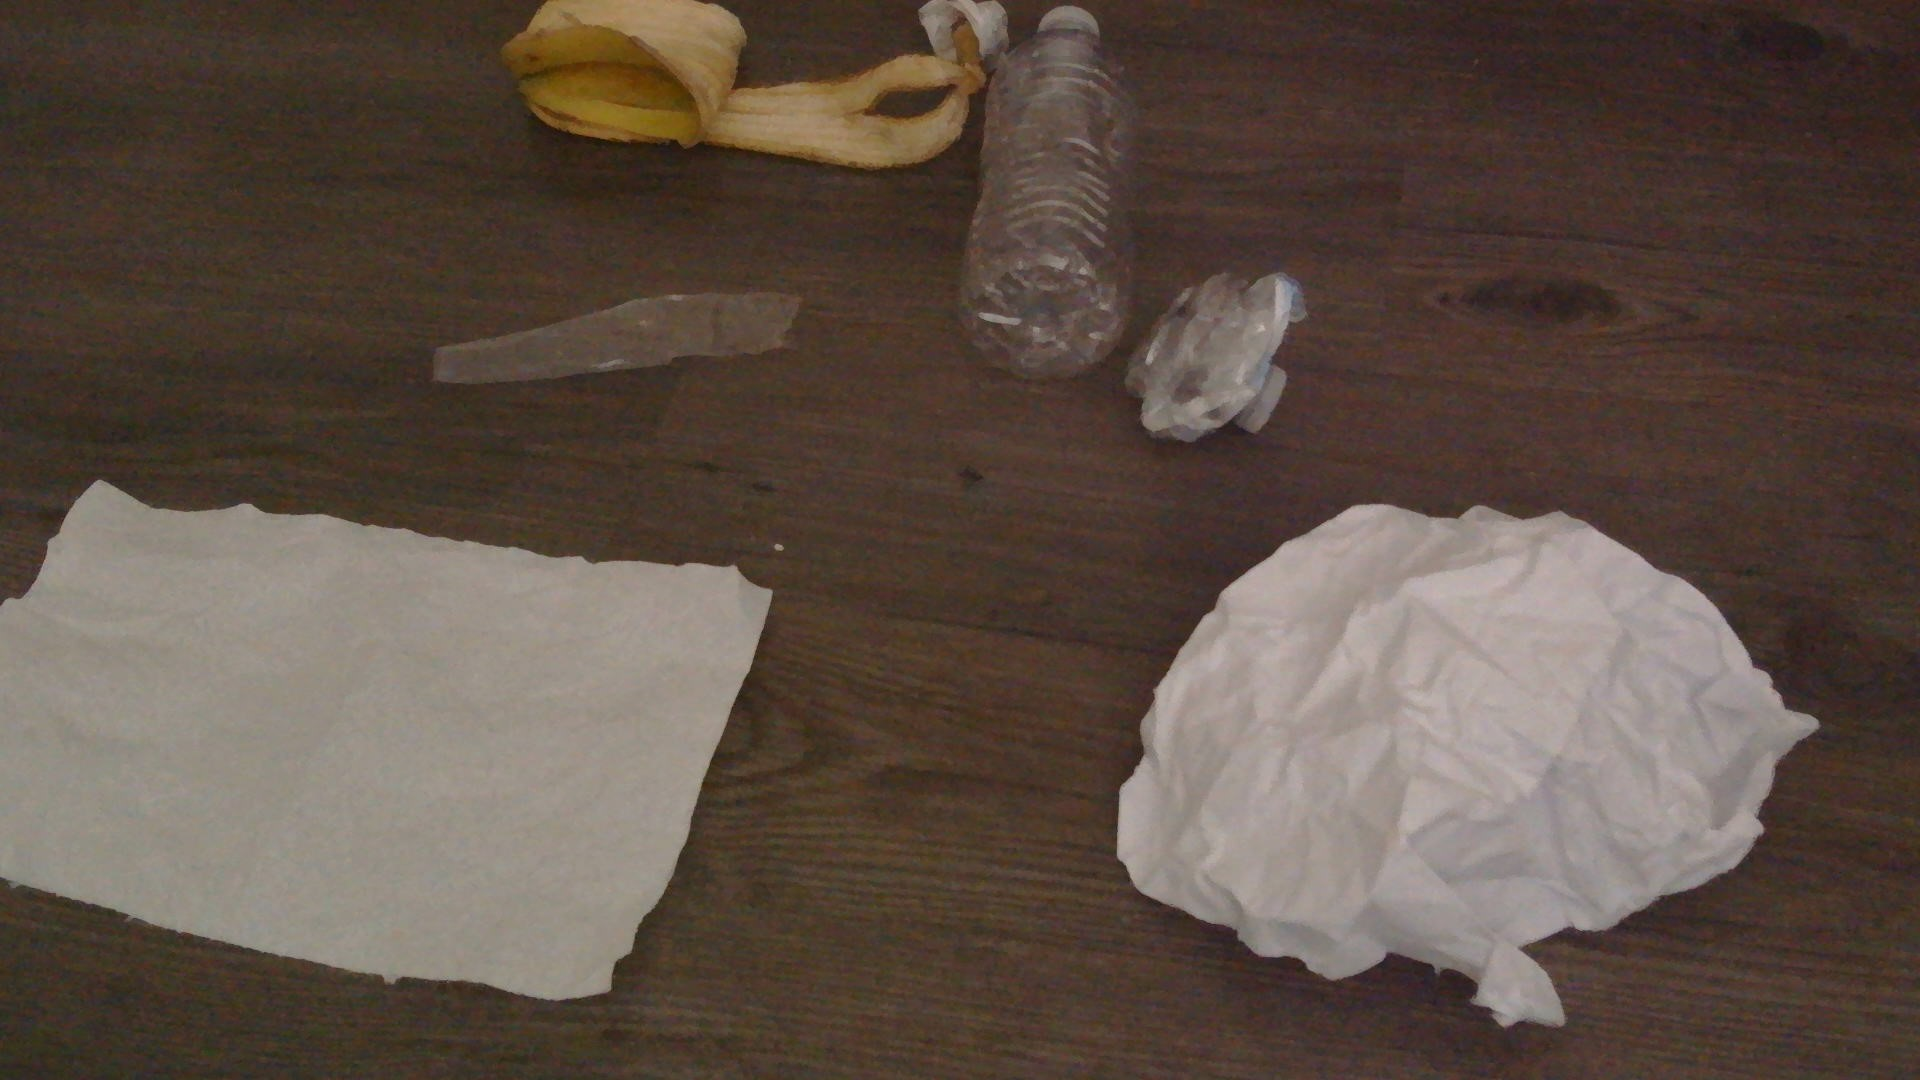banana peel: (498, 0, 1000, 171)
bottle: (953, 0, 1143, 375), (953, 0, 1131, 375)
crushed bottle: (1122, 270, 1311, 447)
napkin: (0, 487, 771, 1000), (498, 0, 1000, 171)
paper ball: (1110, 498, 1815, 1023)
plastic piece: (433, 294, 798, 384)
